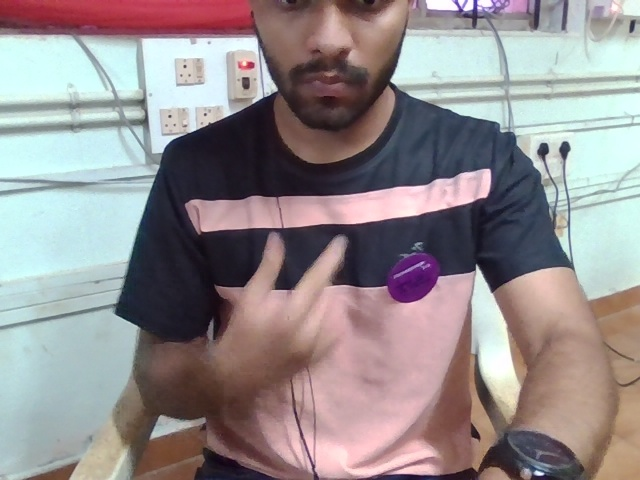my turn: (209, 204, 405, 414)
